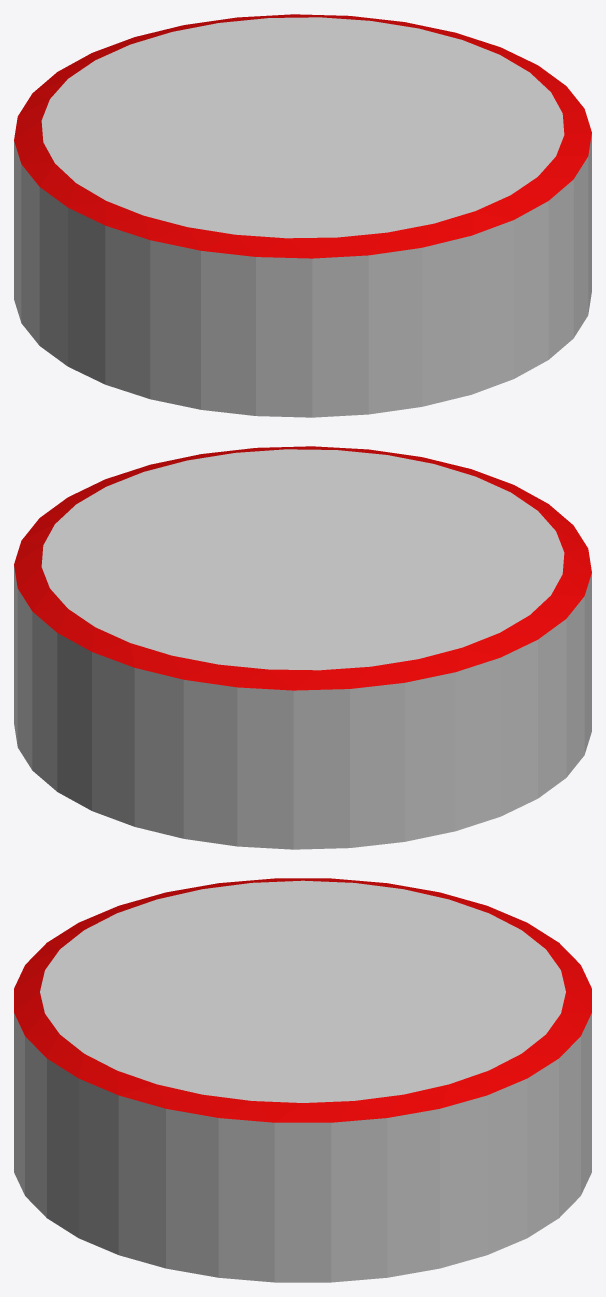
Rendered from Platform.fbx.
The picture shows the model from 3 angles, top to bottom: view 1: azimuth 30°, elevation 25°; view 2: azimuth 150°, elevation 25°; view 3: azimuth 270°, elevation 25°; orthographic projection.
Parts seen in each view (by area): view 1: Cylinder; view 2: Cylinder; view 3: Cylinder.
Part boxes in pixels (x1,y1,x2,y2): Cylinder: (14, 14, 591, 417); Cylinder: (14, 446, 591, 849); Cylinder: (14, 878, 591, 1282).
Bounding box in the file's own units: 50.1 × 16.94 × 50.1.
